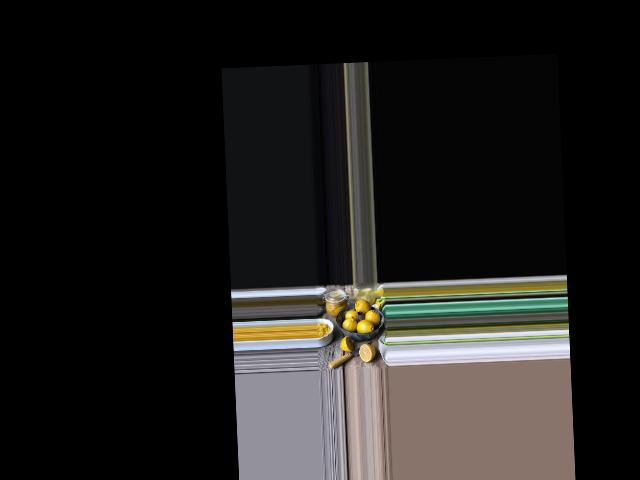lemon: (342, 317, 356, 332)
